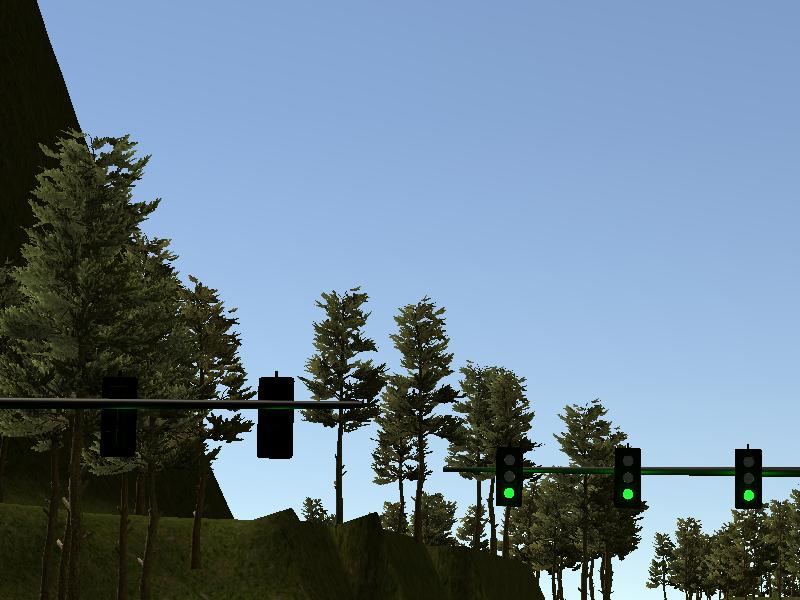Green: (734, 449, 762, 510), (616, 448, 642, 506), (497, 447, 521, 506)
